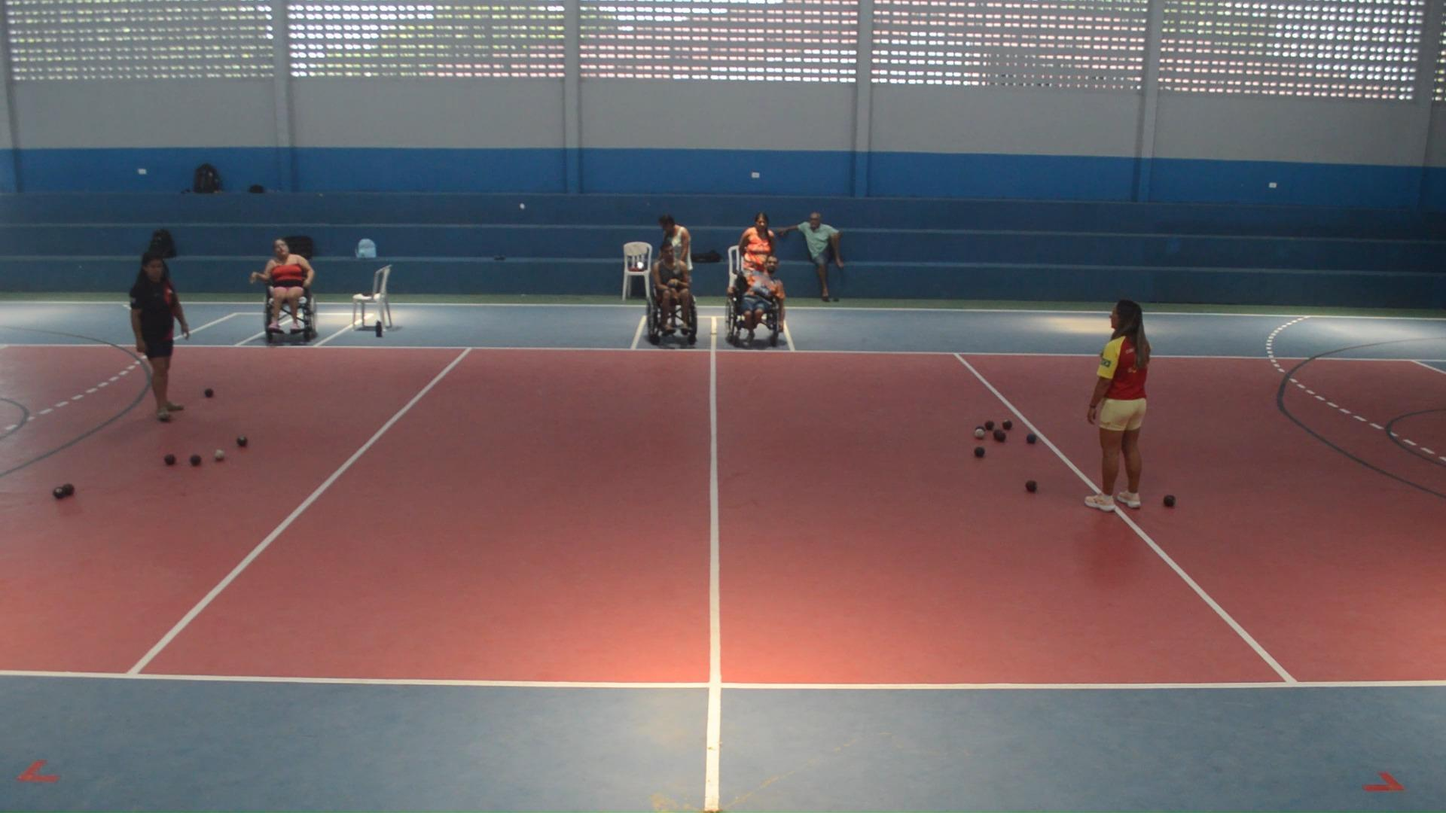blue_ball: (974, 446, 985, 458), (1026, 433, 1036, 444)
red_ball: (1163, 494, 1176, 507), (1025, 480, 1038, 491), (1002, 419, 1013, 431), (984, 420, 995, 431), (996, 431, 1006, 442)
white_ball: (974, 429, 985, 438)
